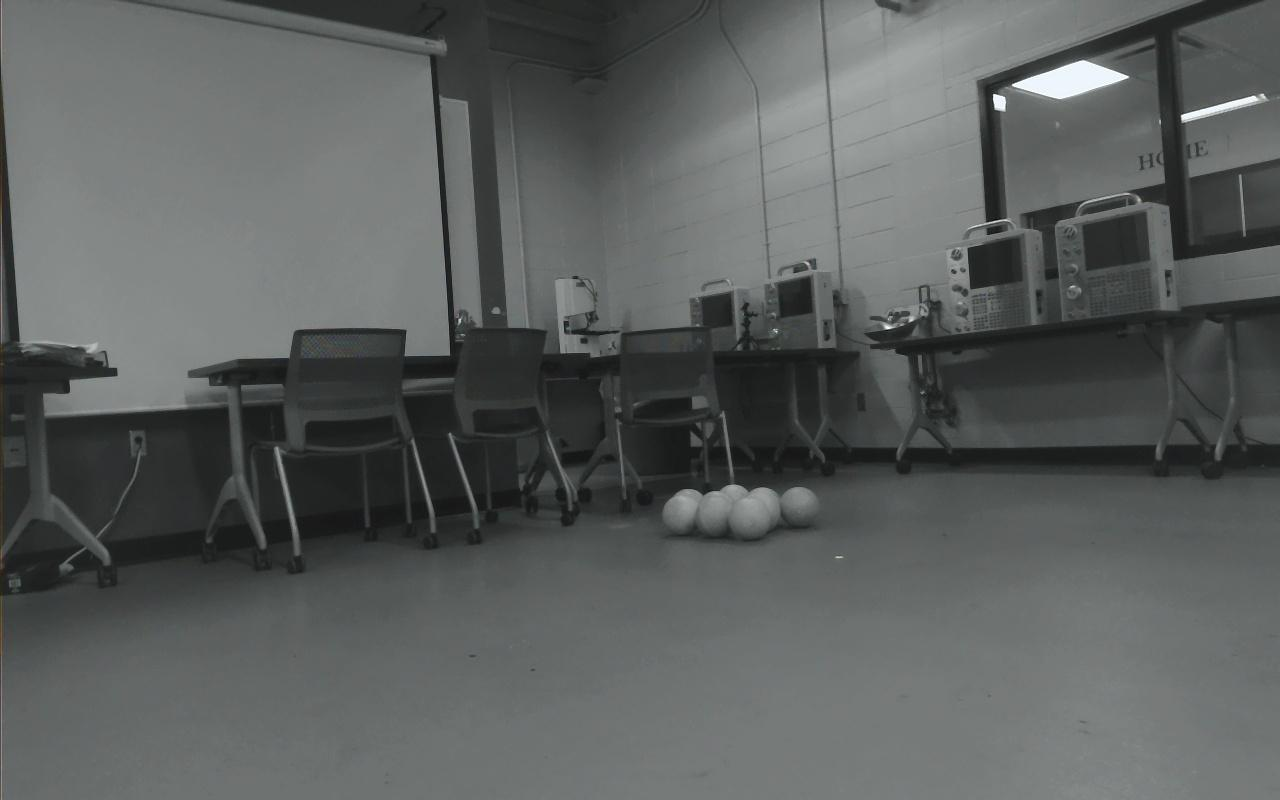Fuel: (728, 497, 772, 541), (695, 495, 735, 538), (778, 486, 819, 527), (662, 494, 701, 536), (744, 491, 781, 534), (701, 490, 736, 529), (748, 486, 782, 525), (671, 488, 705, 526), (719, 484, 751, 522)
